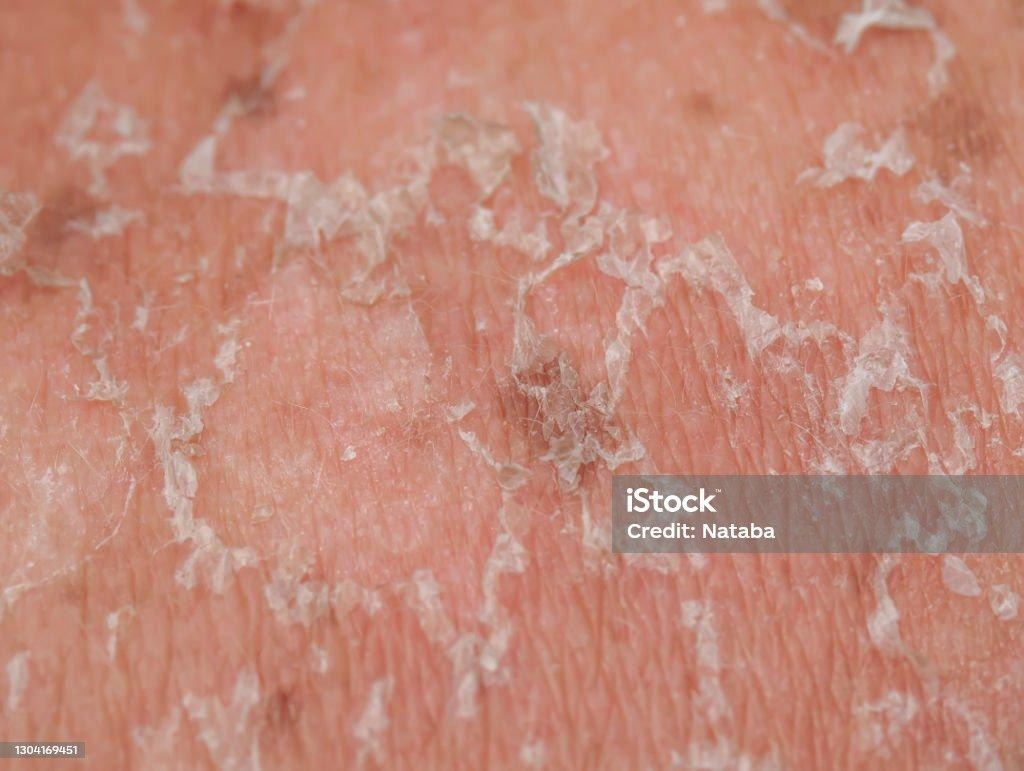Dry-Skin: (441, 111, 730, 519), (43, 66, 373, 332), (403, 538, 758, 771), (56, 358, 343, 644), (793, 326, 1024, 674), (783, 1, 1023, 295)
